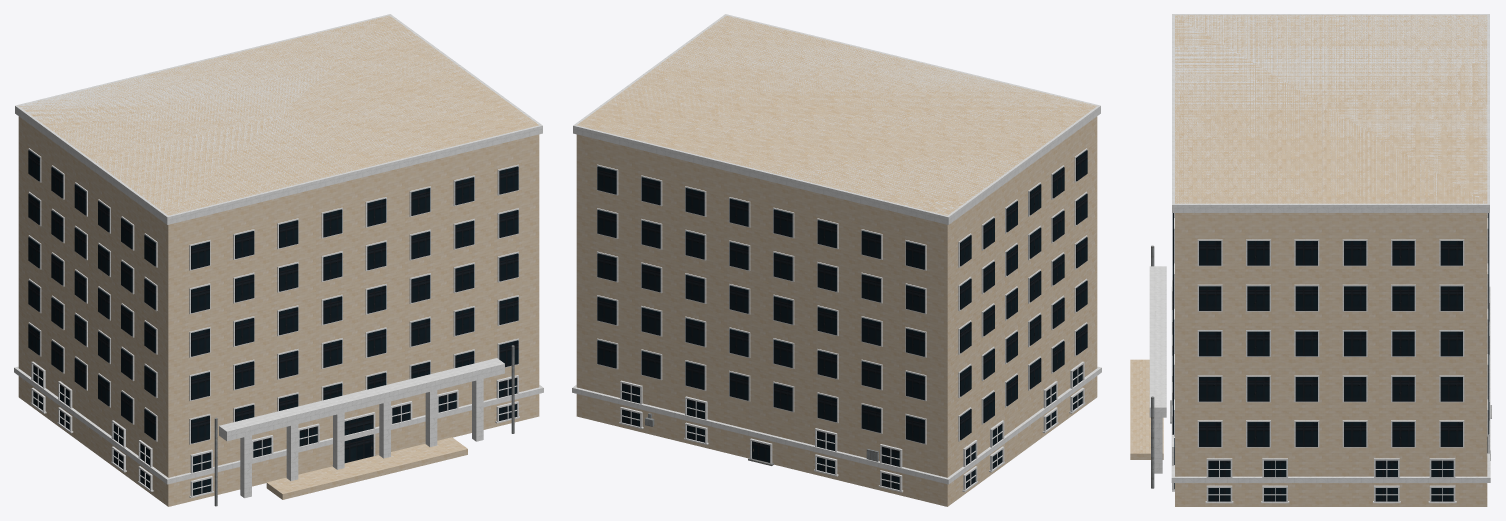
File: civic-courts-annex_lod0.gltf
3 views of the same model, side by side, from view 1: azimuth 30°, elevation 25°; view 2: azimuth 150°, elevation 25°; view 3: azimuth 270°, elevation 25° (orthographic). The views are drawn at different scales.
Visible parts, largest first — view 1: civic-courts-annex_main, civic-courts-annex__cornice, civic-courts-annex_fen_07-glass-curtain-blue_1_t, civic-courts-annex_fen_05-white-marble_0, civic-courts-annex__colonnade_beam, civic-courts-annex__steps, civic-courts-annex__trim_band, civic-courts-annex__column_f, civic-courts-annex__column_a, civic-courts-annex__column_e, civic-courts-annex__column_b, civic-courts-annex__column_c (+1 smaller); view 2: civic-courts-annex_main, civic-courts-annex_fen_07-glass-curtain-blue_1_t, civic-courts-annex__cornice, civic-courts-annex_fen_05-white-marble_0, civic-courts-annex__trim_band; view 3: civic-courts-annex_main, civic-courts-annex__cornice, civic-courts-annex_fen_07-glass-curtain-blue_1_t, civic-courts-annex_fen_05-white-marble_0, civic-courts-annex__colonnade_beam, civic-courts-annex__trim_band, civic-courts-annex__steps, civic-courts-annex__column_f.
Boxes of the visible parts, left/top/right/bottom form: civic-courts-annex_main: left=18, top=15, right=539, bottom=506; civic-courts-annex__cornice: left=15, top=14, right=542, bottom=224; civic-courts-annex_fen_07-glass-curtain-blue_1_t: left=28, top=150, right=518, bottom=495; civic-courts-annex_fen_05-white-marble_0: left=28, top=148, right=519, bottom=497; civic-courts-annex__colonnade_beam: left=219, top=358, right=504, bottom=441; civic-courts-annex__steps: left=266, top=437, right=467, bottom=499; civic-courts-annex__trim_band: left=14, top=366, right=543, bottom=484; civic-courts-annex__column_f: left=472, top=379, right=483, bottom=441; civic-courts-annex__column_a: left=240, top=435, right=251, bottom=498; civic-courts-annex__column_e: left=425, top=390, right=437, bottom=447; civic-courts-annex__column_b: left=286, top=424, right=298, bottom=480; civic-courts-annex__column_c: left=333, top=412, right=344, bottom=469; civic-courts-annex_main: left=576, top=16, right=1097, bottom=506; civic-courts-annex_fen_07-glass-curtain-blue_1_t: left=597, top=150, right=1087, bottom=489; civic-courts-annex__cornice: left=573, top=14, right=1100, bottom=224; civic-courts-annex_fen_05-white-marble_0: left=597, top=148, right=1087, bottom=492; civic-courts-annex__trim_band: left=572, top=366, right=1101, bottom=484; civic-courts-annex_main: left=1175, top=15, right=1487, bottom=506; civic-courts-annex__cornice: left=1172, top=14, right=1489, bottom=212; civic-courts-annex_fen_07-glass-curtain-blue_1_t: left=1172, top=213, right=1489, bottom=501; civic-courts-annex_fen_05-white-marble_0: left=1172, top=213, right=1489, bottom=503; civic-courts-annex__colonnade_beam: left=1149, top=266, right=1166, bottom=417; civic-courts-annex__trim_band: left=1171, top=286, right=1490, bottom=482; civic-courts-annex__steps: left=1130, top=359, right=1163, bottom=459; civic-courts-annex__column_f: left=1154, top=417, right=1162, bottom=473.
Size of the model in its own units: 40.6 by 30 by 32.4.
